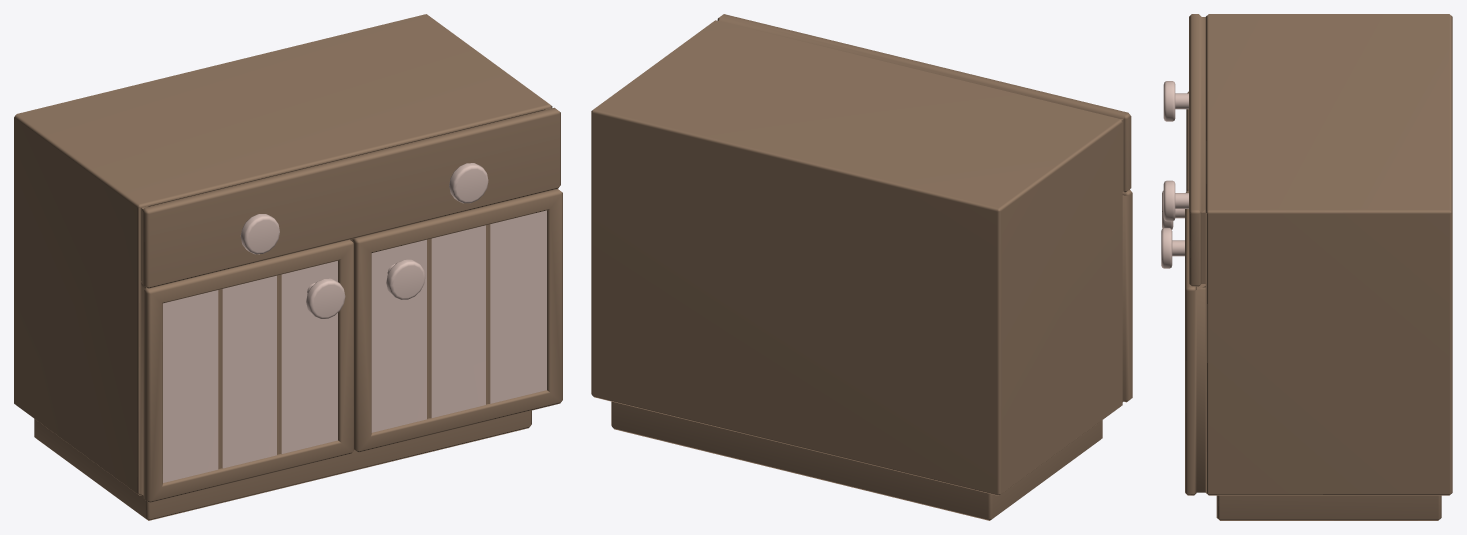
The model's file is bathroomCabibet.fbx.
3 renders of one model, left to right at view 1: azimuth 30°, elevation 25°; view 2: azimuth 150°, elevation 25°; view 3: azimuth 270°, elevation 25°, orthographic. The views are drawn at different scales.
Parts seen in each view (by area): view 1: bathroomCabinet, bathroomCabinet.003, bathroomCabinet.002, bathroomCabinet.001; view 2: bathroomCabinet, bathroomCabinet.001, bathroomCabinet.003; view 3: bathroomCabinet, bathroomCabinet.001, bathroomCabinet.002, bathroomCabinet.003.
Boxes of the visible parts, bbox=[...] form: bathroomCabinet: bbox=[14, 14, 552, 520]; bathroomCabinet.003: bbox=[141, 239, 353, 502]; bathroomCabinet.002: bbox=[350, 189, 562, 452]; bathroomCabinet.001: bbox=[141, 107, 560, 288]; bathroomCabinet: bbox=[591, 20, 1122, 520]; bathroomCabinet.001: bbox=[717, 14, 1131, 192]; bathroomCabinet.003: bbox=[1122, 189, 1132, 402]; bathroomCabinet: bbox=[1205, 14, 1452, 520]; bathroomCabinet.001: bbox=[1163, 14, 1205, 286]; bathroomCabinet.002: bbox=[1161, 190, 1205, 495]; bathroomCabinet.003: bbox=[1162, 91, 1188, 229].
Bounding box in the file's own units: 137 × 102 × 85.02.
